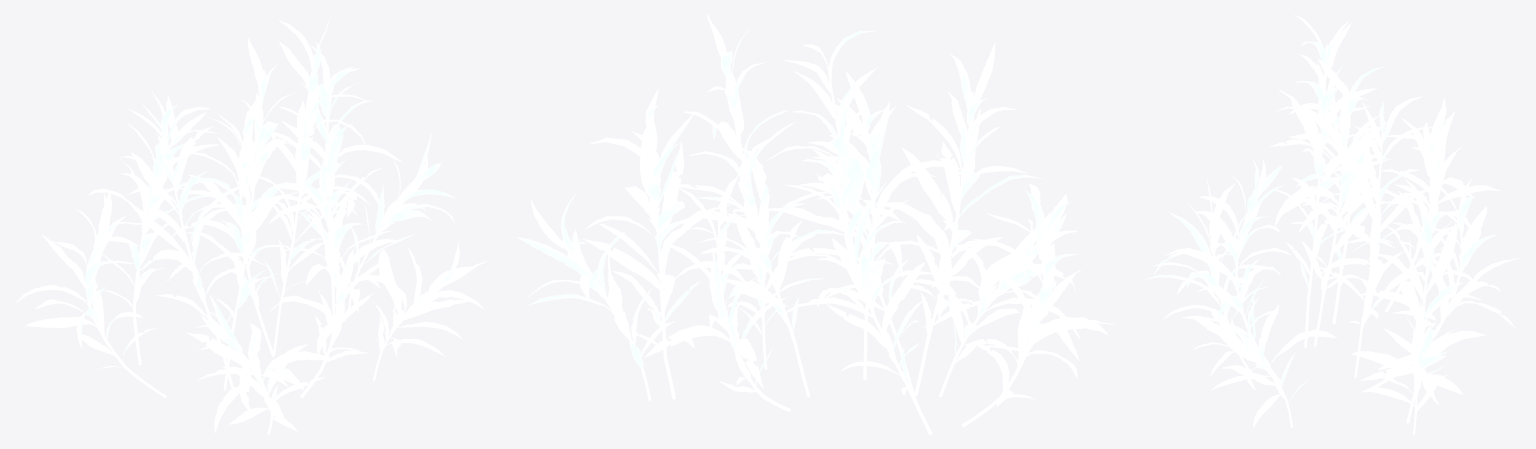
The picture shows the model from 3 angles, left to right: view 1: azimuth 30°, elevation 25°; view 2: azimuth 150°, elevation 25°; view 3: azimuth 270°, elevation 25°; orthographic projection. The views are drawn at different scales.
Visible parts, largest first — view 1: SM_BM_Red_Bush_01_A_LOD0; view 2: SM_BM_Red_Bush_01_A_LOD0; view 3: SM_BM_Red_Bush_01_A_LOD0.
Part boxes in pixels (x1=…): SM_BM_Red_Bush_01_A_LOD0: x1=15, y1=15, x2=486, y2=434; SM_BM_Red_Bush_01_A_LOD0: x1=517, y1=14, x2=1114, y2=434; SM_BM_Red_Bush_01_A_LOD0: x1=1145, y1=14, x2=1521, y2=434.
Size of the model in its own units: 1.07 by 0.779 by 0.7928.
Materials: 1 (1 with a texture image).
